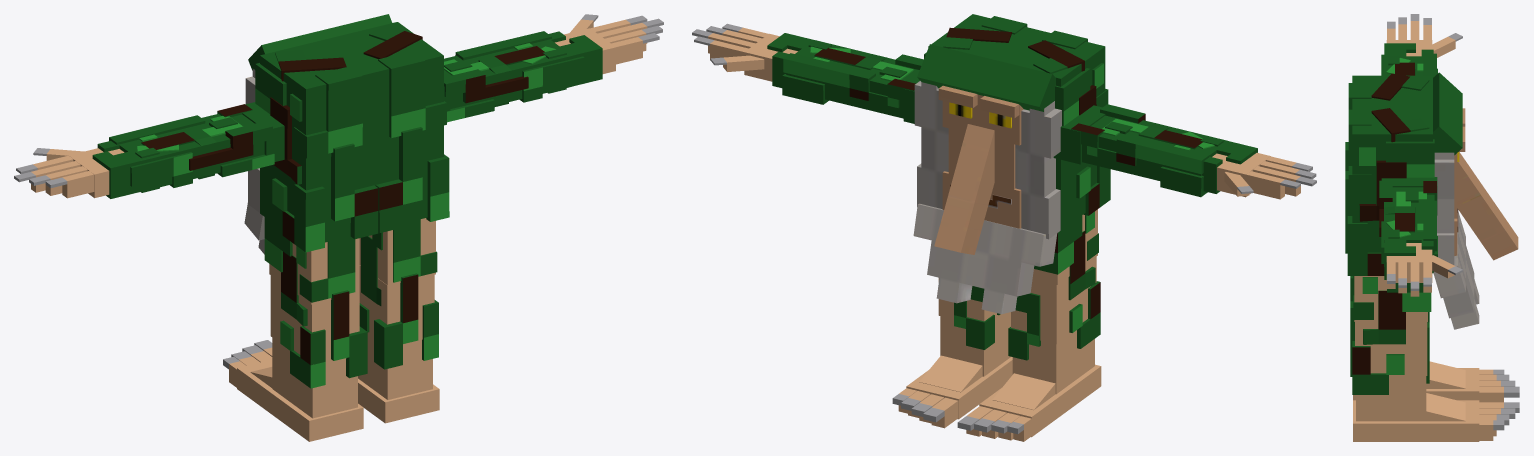
Rendered from brrBrrPatapim.fbx.
The picture shows the model from 3 angles, left to right: view 1: azimuth 30°, elevation 25°; view 2: azimuth 150°, elevation 25°; view 3: azimuth 270°, elevation 25°; orthographic projection. The views are drawn at different scales.
Visible parts, largest first — view 1: brrbrrpatapim; view 2: brrbrrpatapim; view 3: brrbrrpatapim.
Part boxes in pixels (x1,y1,x2,y2): brrbrrpatapim: (14,14,663,441); brrbrrpatapim: (692,14,1316,441); brrbrrpatapim: (1345,14,1519,441).
Size of the model in its own units: 1288 by 688 by 345.
